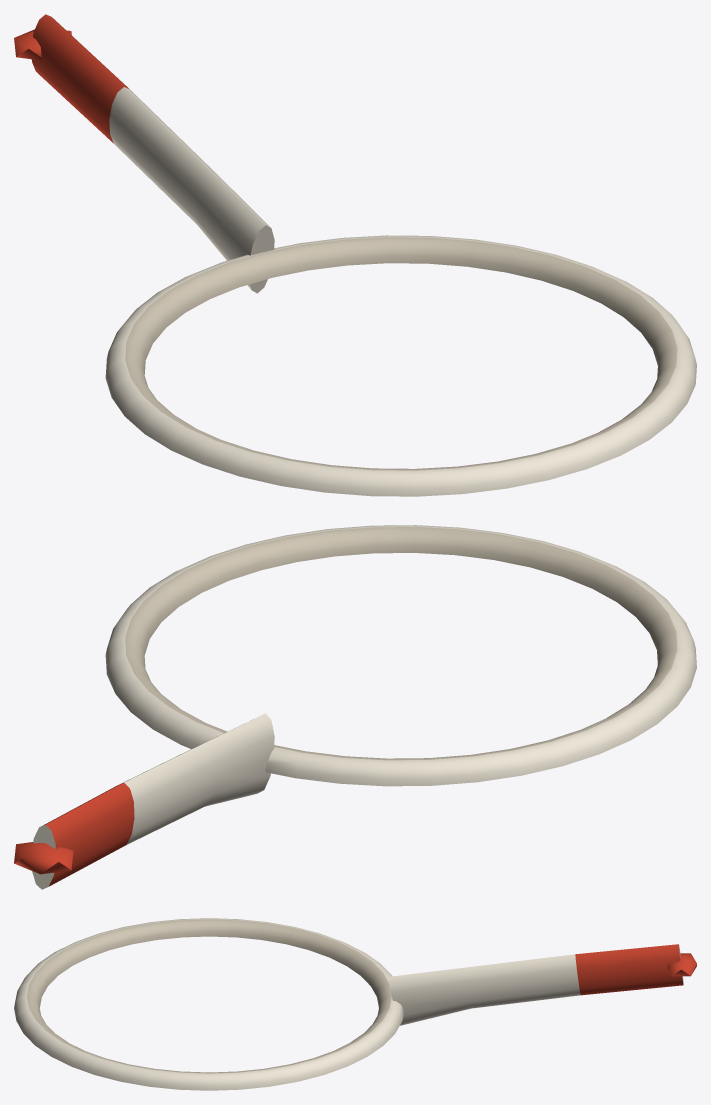
The model's file is poi.glb.
The picture shows the model from 3 angles, top to bottom: view 1: azimuth 30°, elevation 25°; view 2: azimuth 150°, elevation 25°; view 3: azimuth 270°, elevation 25°; orthographic projection. The views are drawn at different scales.
Visible parts, largest first — view 1: poi; view 2: poi; view 3: poi.
Boxes of the visible parts, box(x1,y1,x2,y2) form: poi: box(14, 14, 696, 496); poi: box(14, 525, 696, 889); poi: box(14, 918, 696, 1090).
Bounding box in the file's own units: 0.106 × 0.0245 × 0.1853.
